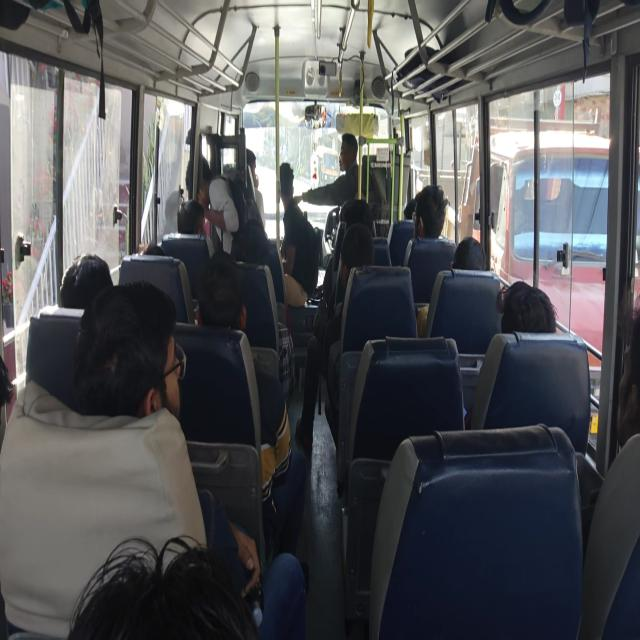person: (75, 296, 185, 428), (87, 532, 219, 640), (194, 265, 250, 331), (609, 329, 640, 447), (187, 146, 234, 217), (502, 282, 551, 332), (345, 227, 386, 282), (180, 200, 222, 253), (342, 195, 382, 249), (241, 144, 273, 204), (276, 162, 310, 212), (63, 252, 103, 294), (232, 235, 273, 273), (414, 186, 448, 227), (462, 239, 506, 270), (396, 198, 432, 234), (242, 214, 278, 246), (142, 242, 173, 276)
